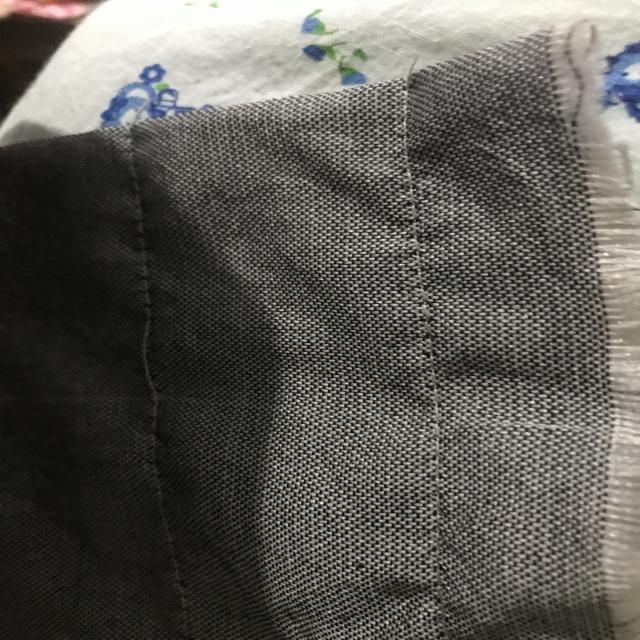skip: (123, 302, 179, 411)
